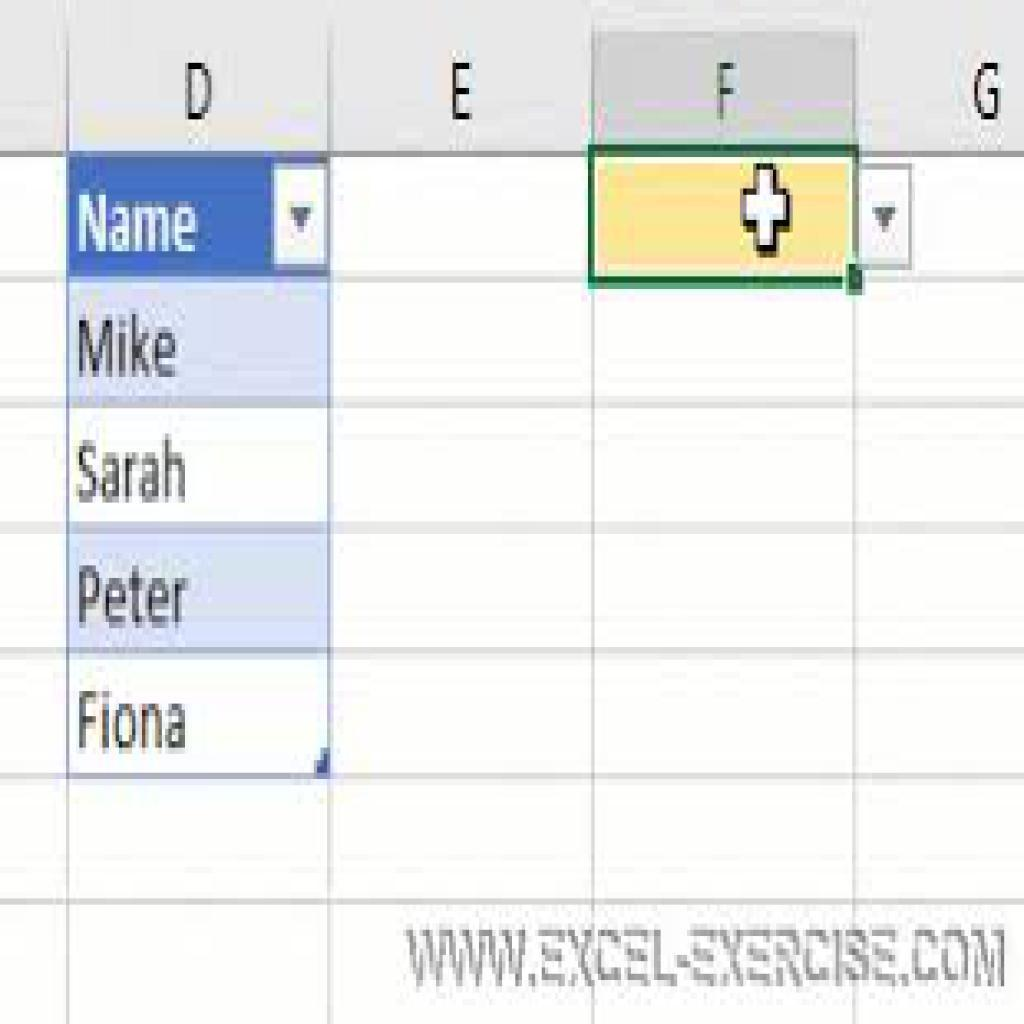dropdown: (589, 147, 915, 277), (70, 155, 328, 276)
